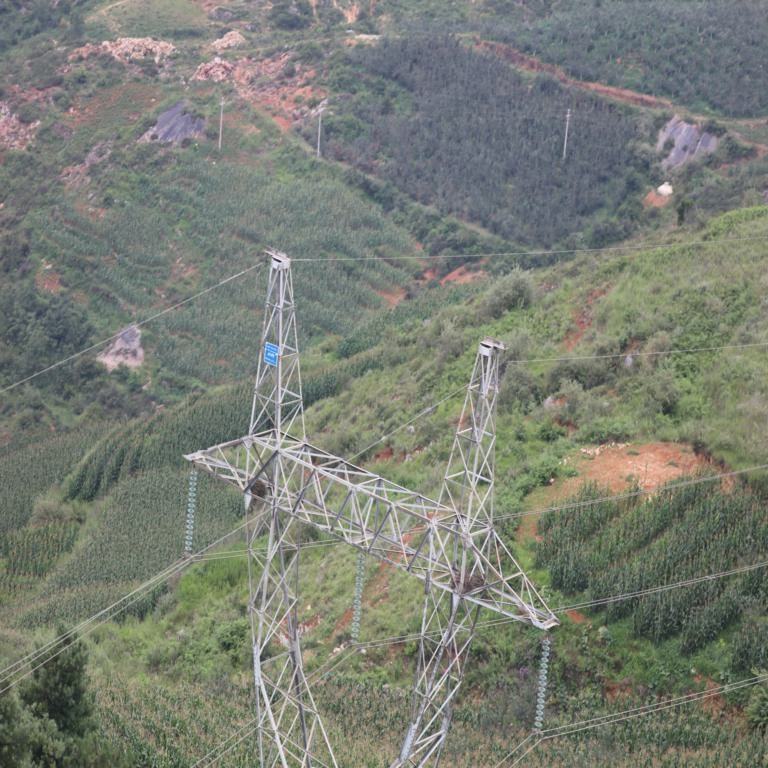nest: (453, 570, 483, 590), (246, 477, 269, 494)
